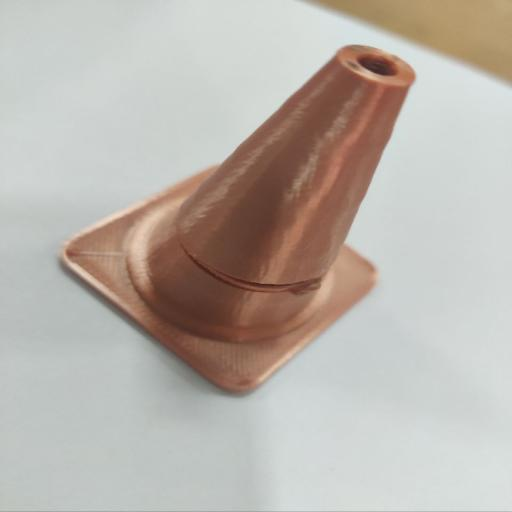cracks: (166, 215, 330, 302)
